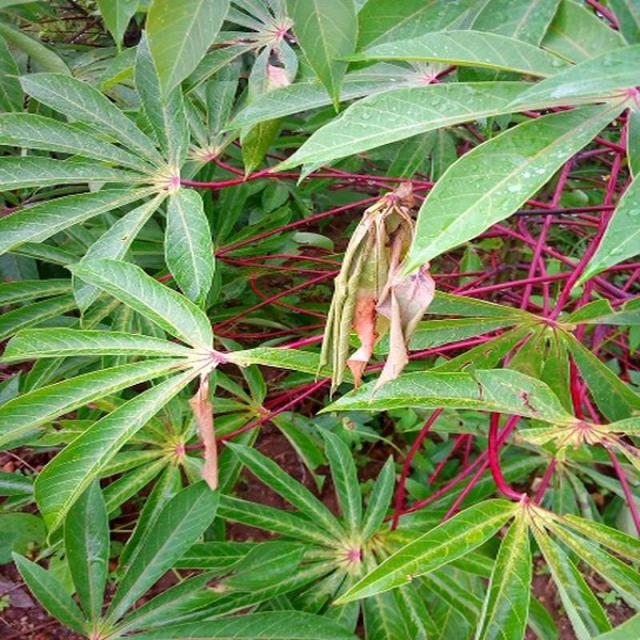cassava leaf: (0, 1, 638, 637), (397, 88, 632, 280)
